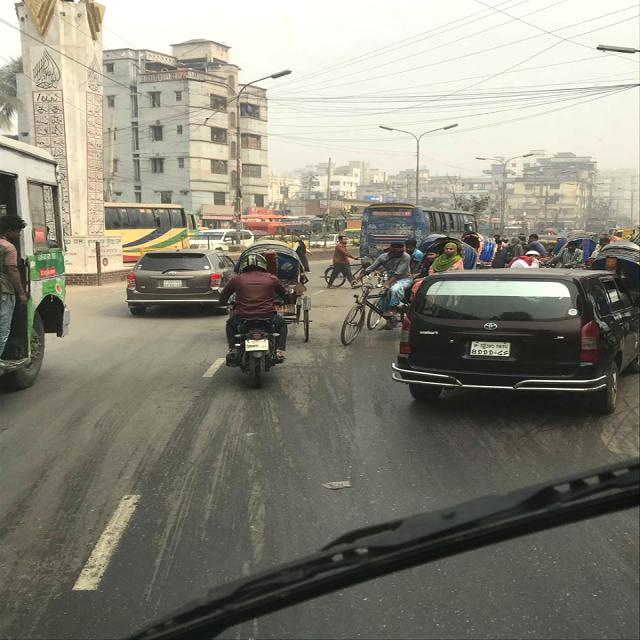maroon: (394, 260, 626, 422)
silver: (127, 245, 236, 315)
white: (184, 228, 256, 256)
